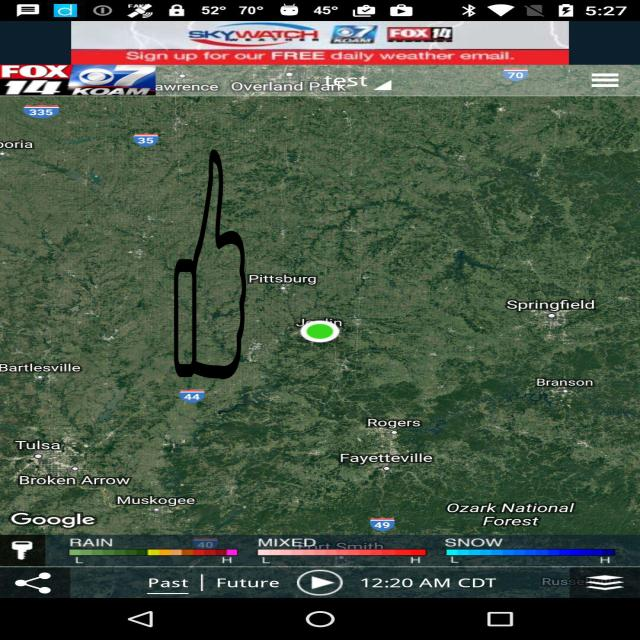privacy zuckering: (173, 149, 247, 379)
